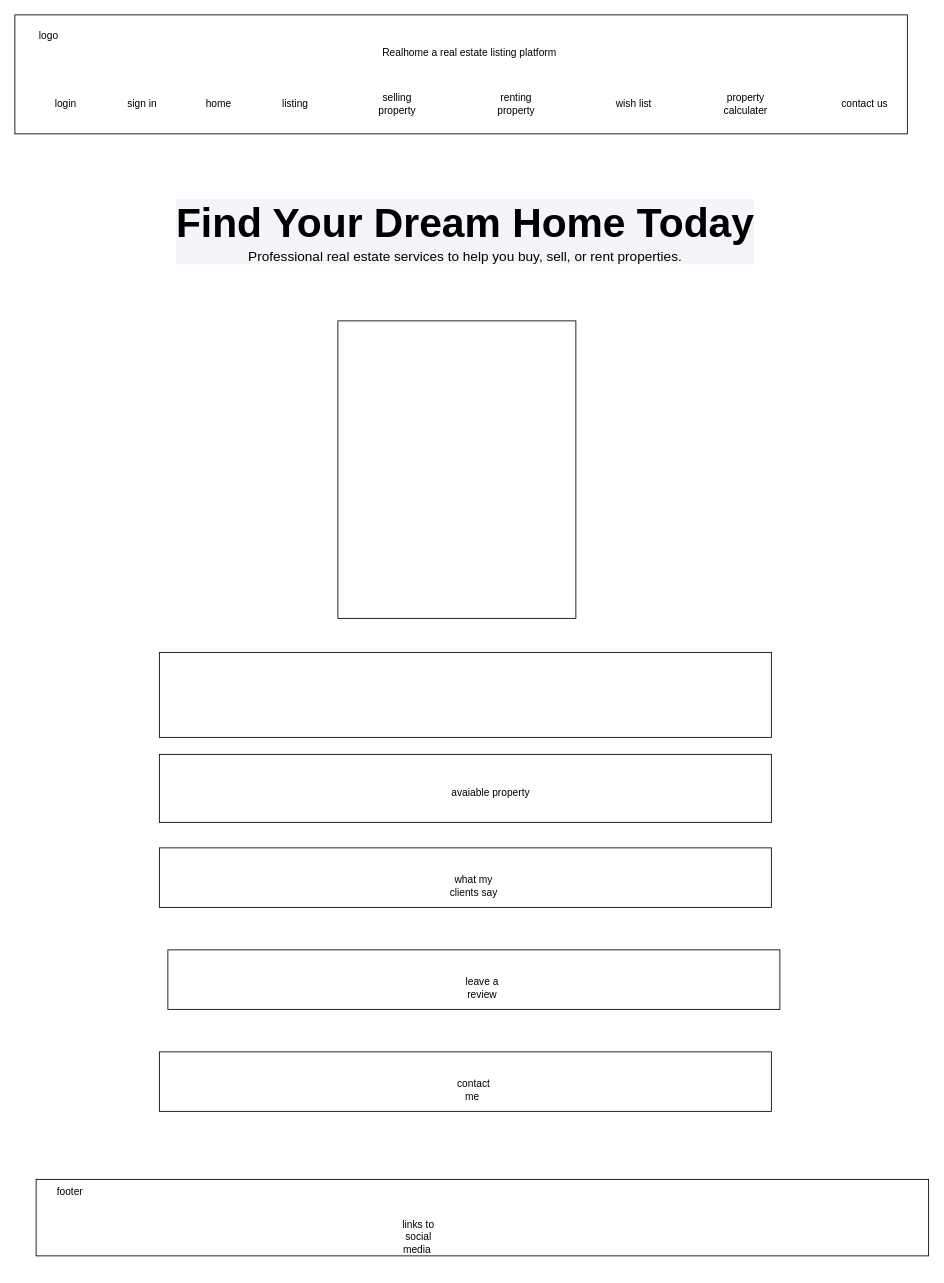
This 944x1283 diagram has some shape labels left out. Each missing label, with the centre of its shape:
picture of agent: pixel 456 469
services: pixel 465 694
